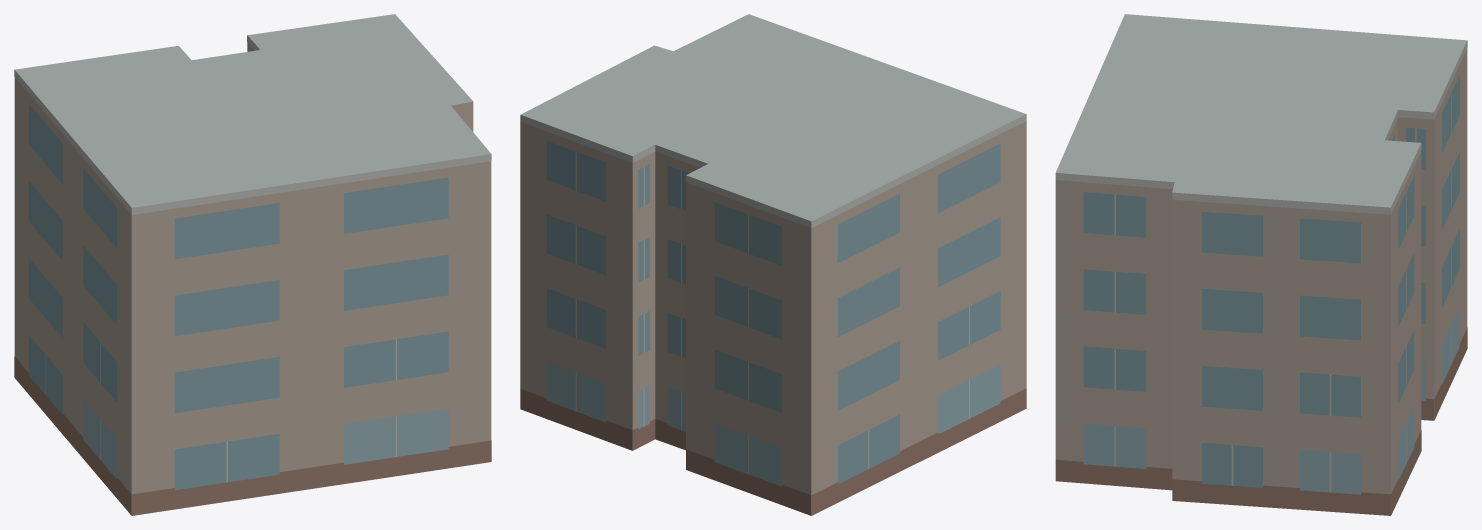
Rendered from survey-upis-32645668.glb.
3 views of the same model, side by side, from view 1: azimuth 30°, elevation 25°; view 2: azimuth 150°, elevation 25°; view 3: azimuth 270°, elevation 25° (orthographic). The views are drawn at different scales.
Parts seen in each view (by area): view 1: survey-upis-32645668.tmp; view 2: survey-upis-32645668.tmp; view 3: survey-upis-32645668.tmp.
Part boxes in pixels (<box>): survey-upis-32645668.tmp: <box>14,14,491,515</box>; survey-upis-32645668.tmp: <box>520,14,1026,515</box>; survey-upis-32645668.tmp: <box>1055,14,1467,515</box>.
Bounding box in the file's own units: 14.15 × 10.5 × 12.73.
